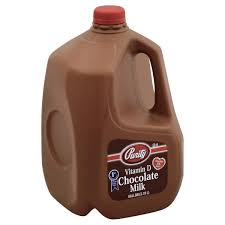milk: (46, 5, 188, 221)
